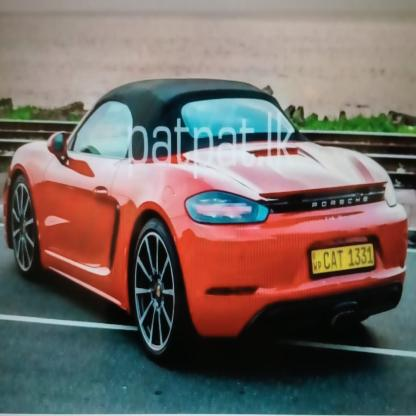car back: (2, 69, 412, 367)
number plate: (306, 241, 379, 276)
